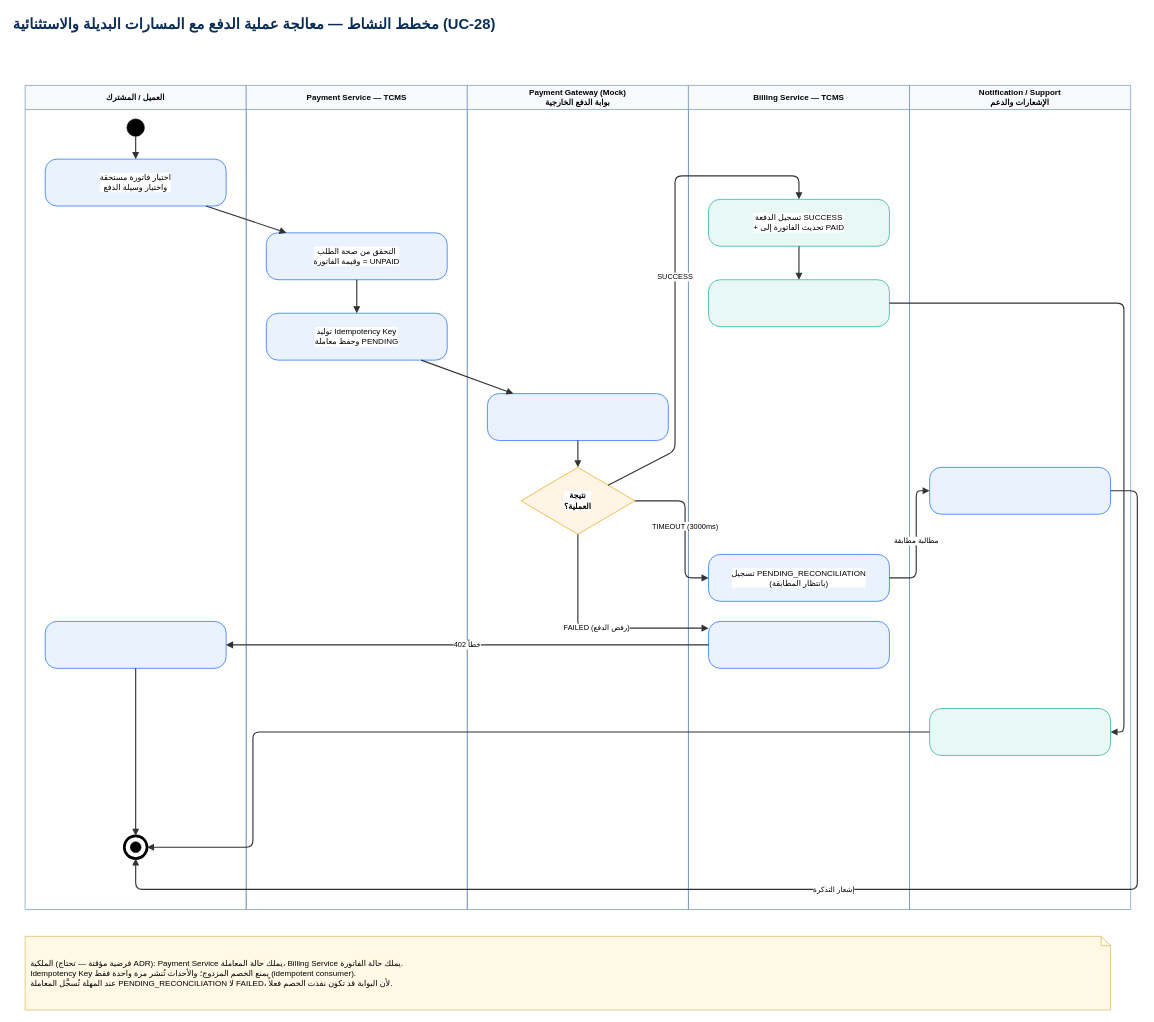
The diagram is 1154 pixels wide and 1022 high, and some of its shapes have lost their labels. The centre of each missing label's shape, as x and y in pixels:
إشعار نجاح الدفع وثيقة الإيصال: pixel 1020 731
إطلاق حدث PaymentCompleted عبر RabbitMQ: pixel 798 303
إظهار سبب الفشل وإتاحة إعادة المحاولة: pixel 135 644
تسجيل FAILED مع رمز الخطأ: pixel 798 644
تنفيذ عملية الخصم Charge(amount): pixel 577 417
فتح تذكرة دعم تلقائية عند تعذر التأكيد: pixel 1020 490
